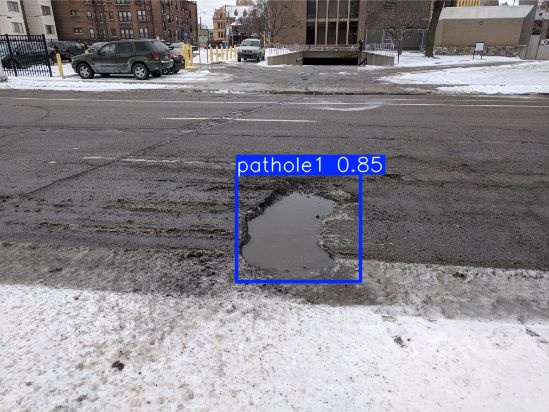pothole: (237, 177, 357, 281)
